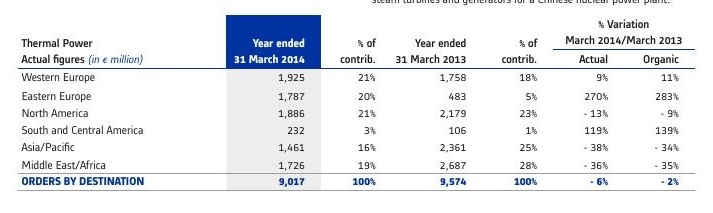table: (0, 0, 713, 213)
